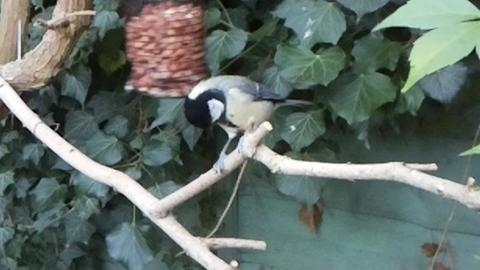great tit: (184, 74, 317, 176)
